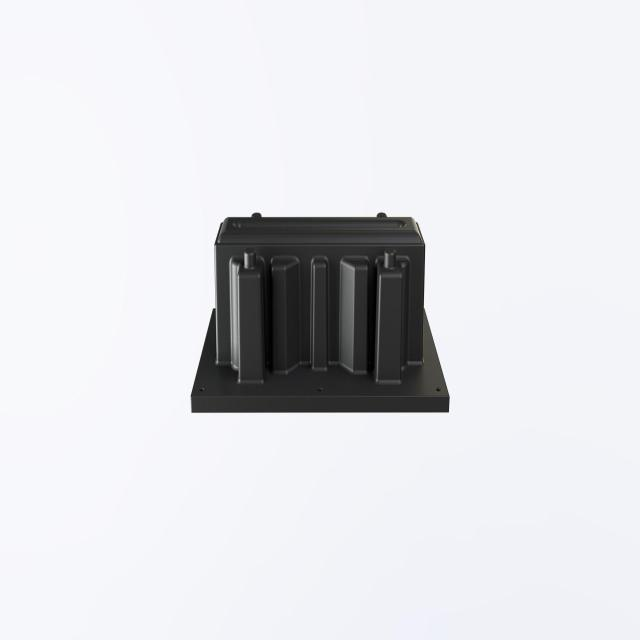Without deffect: (188, 200, 463, 446)
